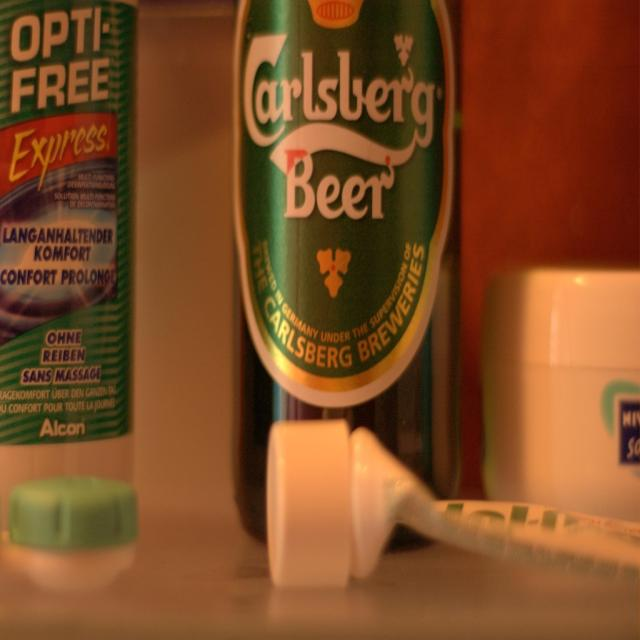carlsberg: (235, 2, 460, 409)
